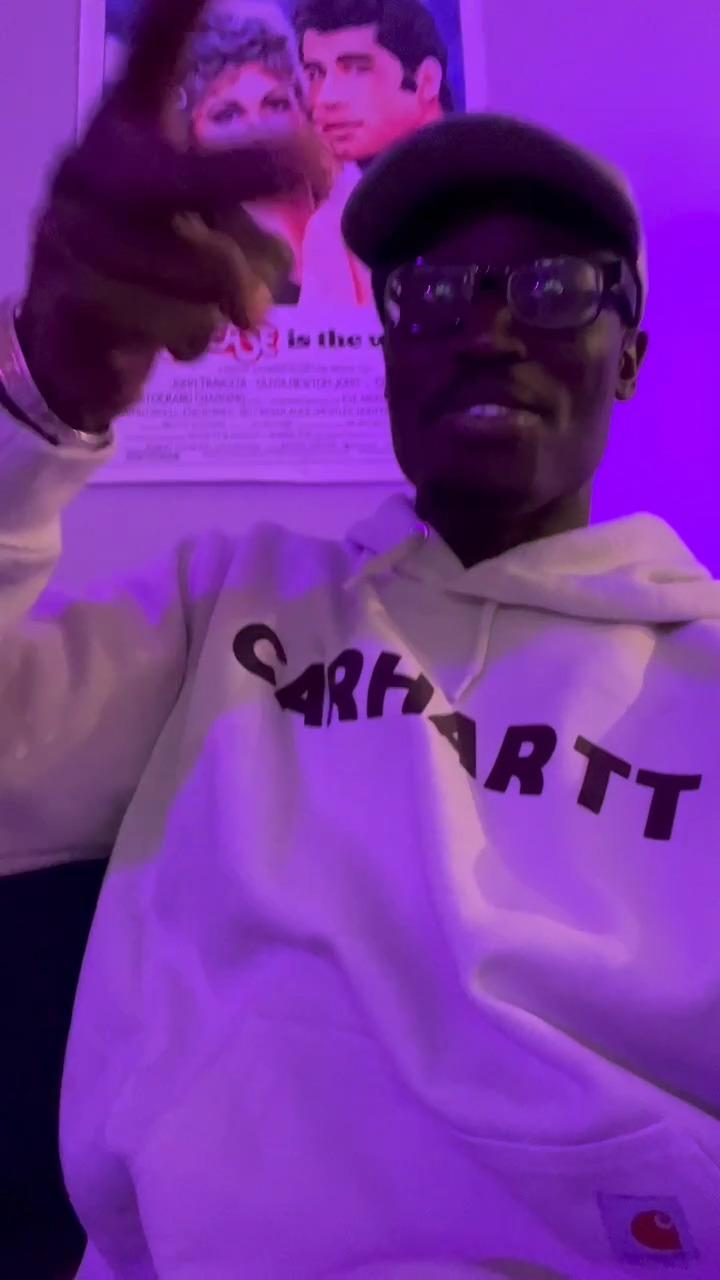Scissors: (26, 0, 323, 431)
